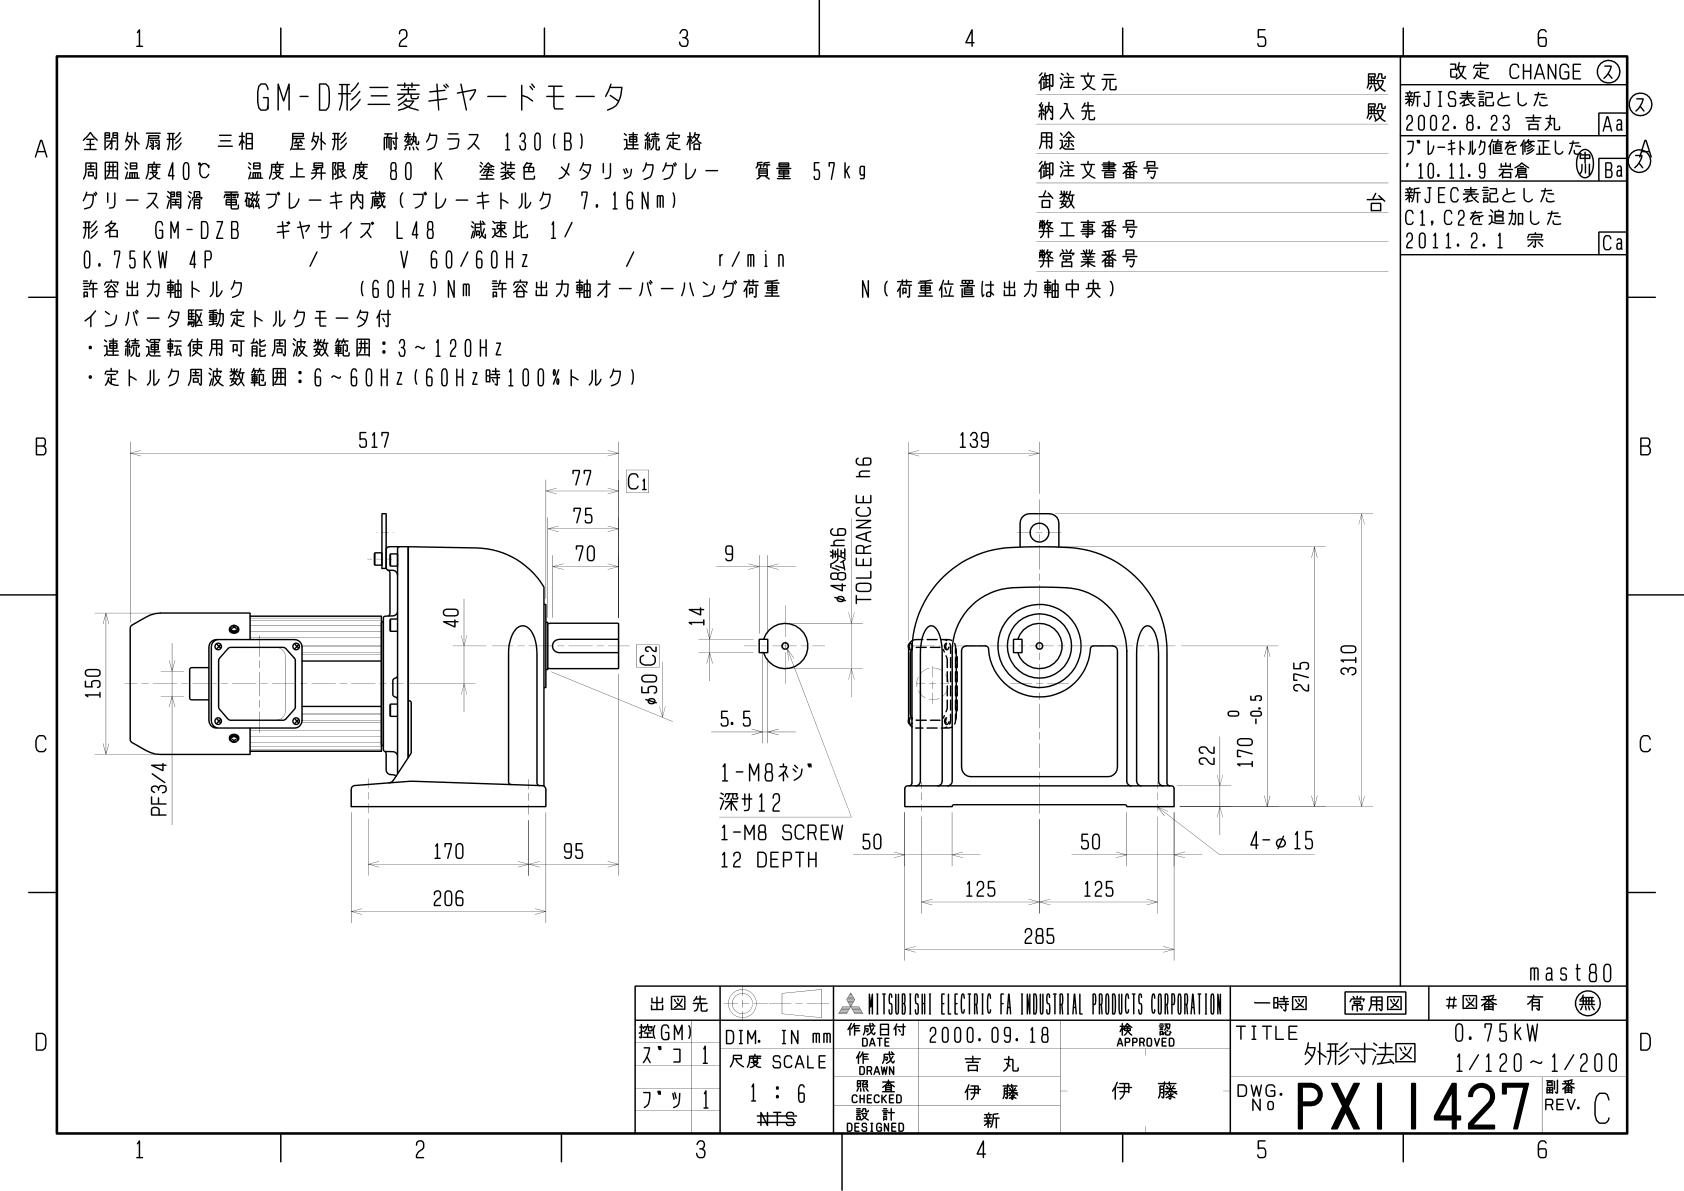GM_D_インバータ屋外_三相_脚: (71, 402, 1379, 978)
